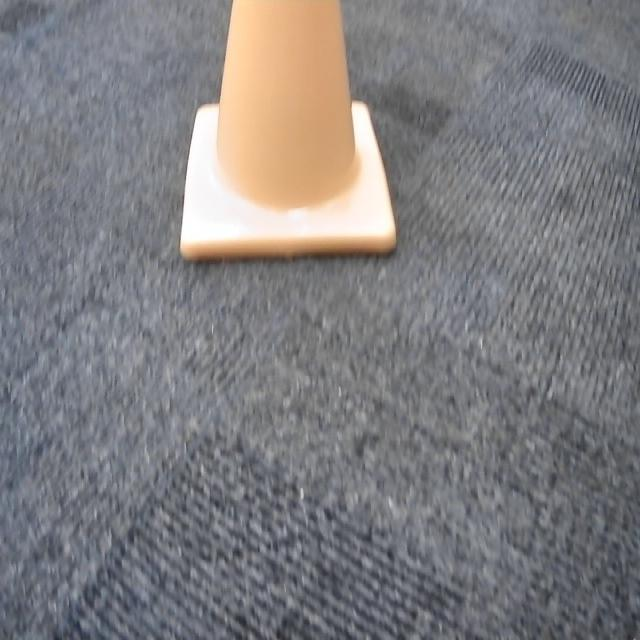cone: (180, 0, 396, 252)
